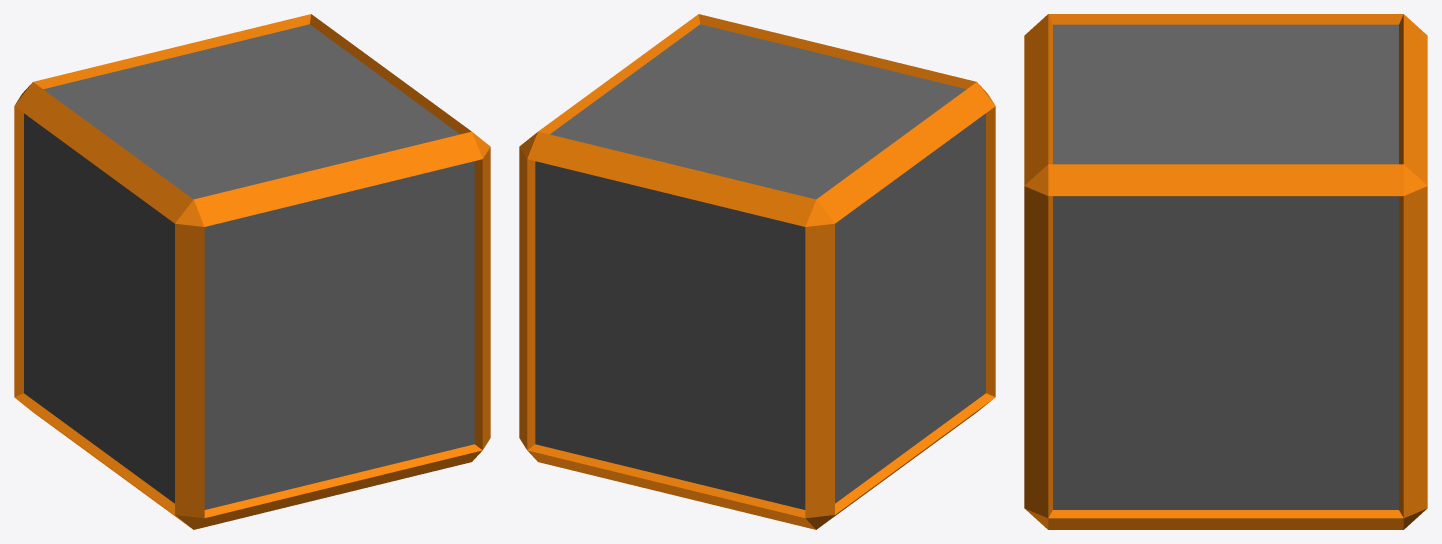
File: CRATE_1M_1M.fbx
3 renders of one model, left to right at view 1: azimuth 30°, elevation 25°; view 2: azimuth 150°, elevation 25°; view 3: azimuth 270°, elevation 25°, orthographic. The views are drawn at different scales.
Parts seen in each view (by area): view 1: pCube1; view 2: pCube1; view 3: pCube1.
Boxes of the visible parts, x1,y1,x2,y2 form: pCube1: (14,14,490,529); pCube1: (519,14,995,529); pCube1: (1024,14,1427,529).
Bounding box in the file's own units: 105 × 105 × 105.
Materials: 1 (1 with a texture image).
